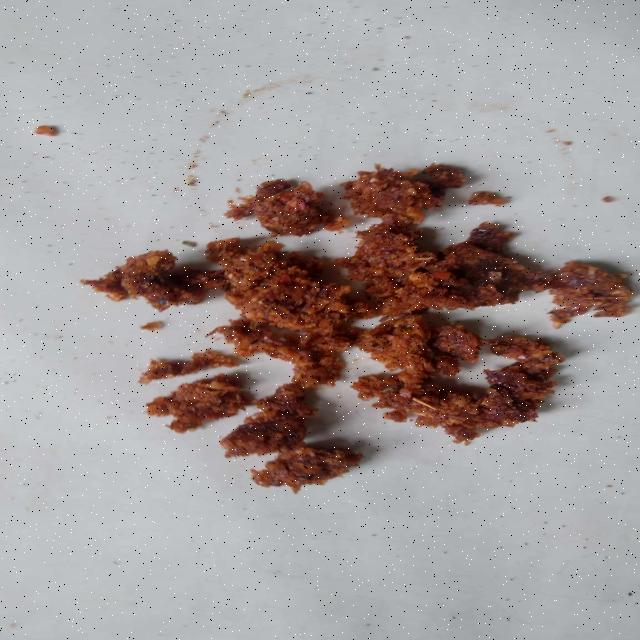Chili Powder: (84, 154, 559, 500)
